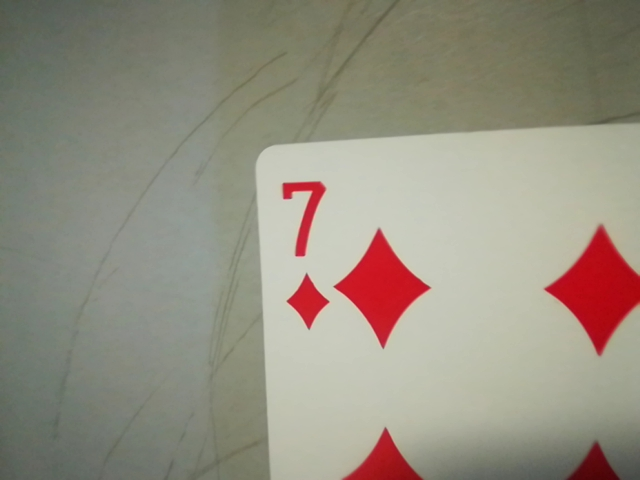fk 7: (267, 167, 338, 339)
